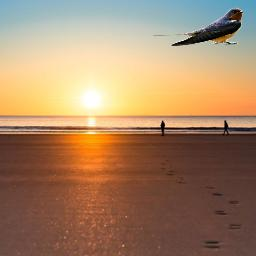Swallow: (153, 7, 244, 46)
